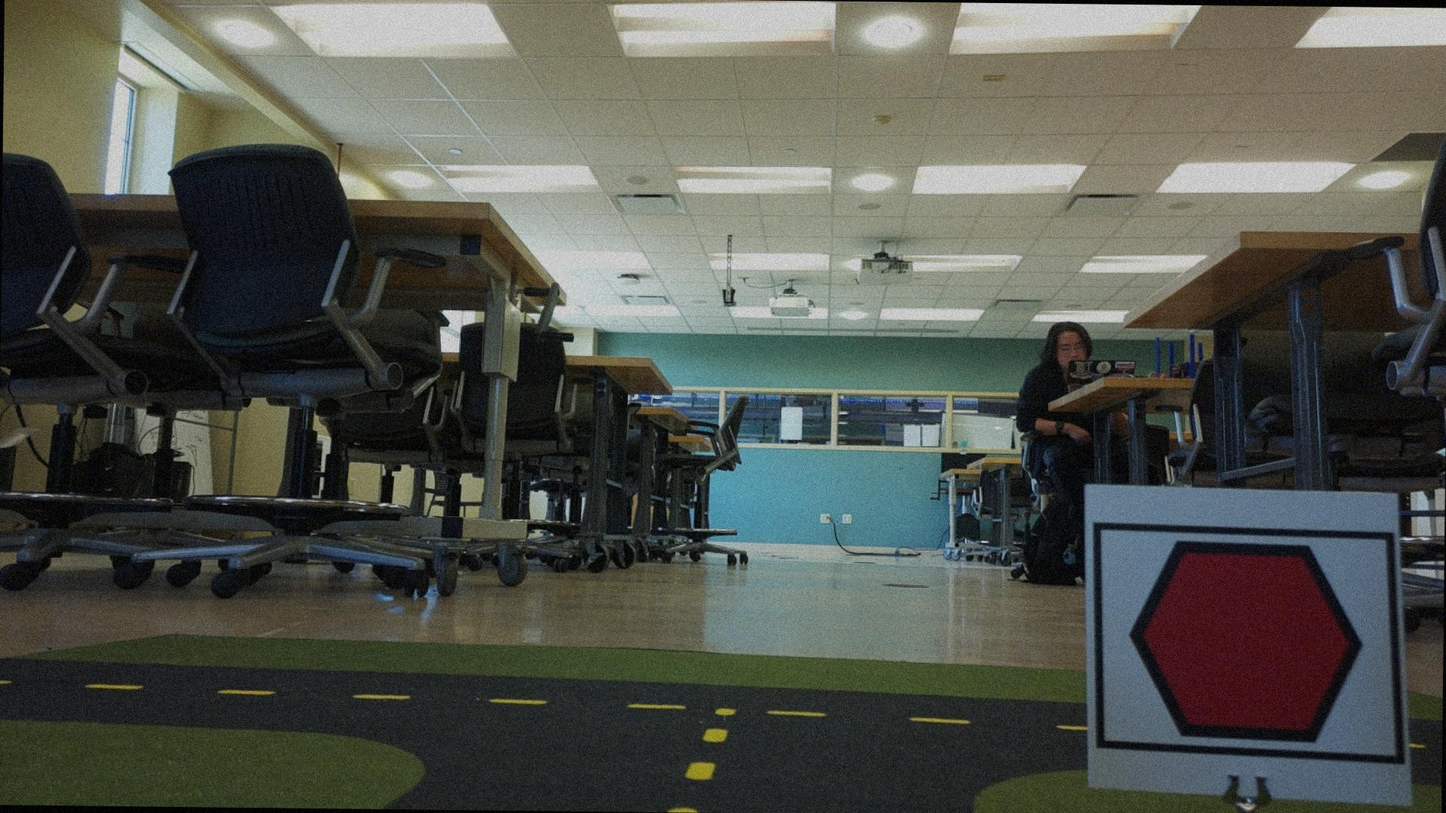stop: (1106, 531, 1384, 752)
yellowline: (688, 705, 732, 788)
